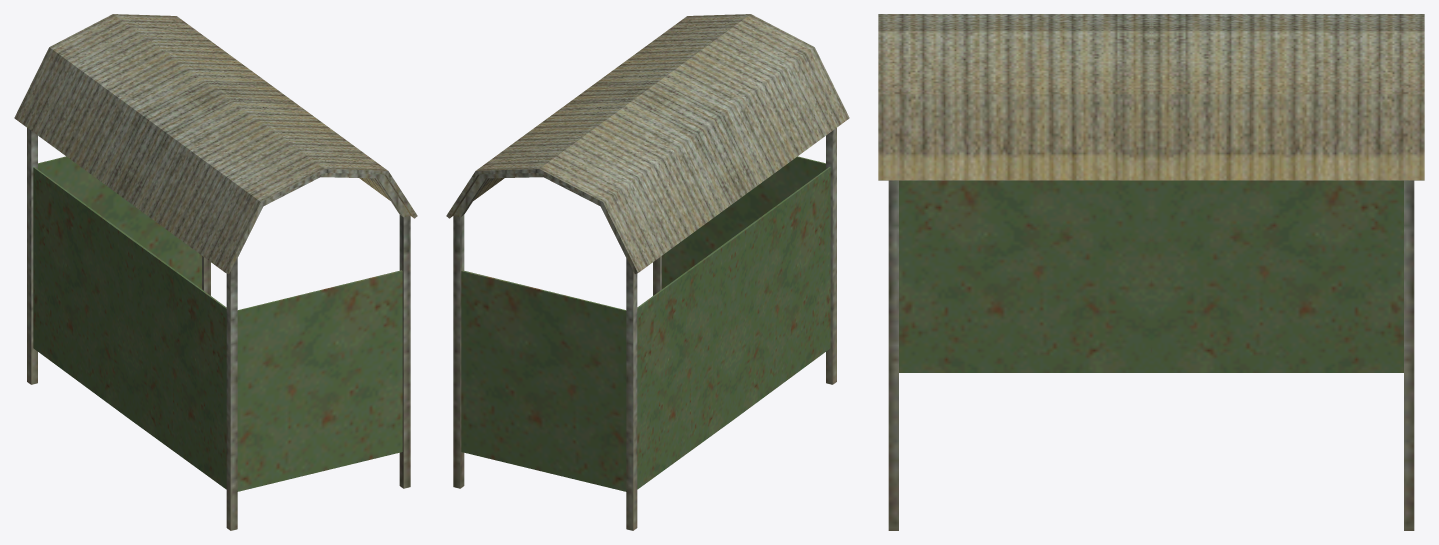
Rendered from Urban_BusstopRoundRoof_Model.fbx.
3 views of the same model, side by side, from view 1: azimuth 30°, elevation 25°; view 2: azimuth 150°, elevation 25°; view 3: azimuth 270°, elevation 25° (orthographic). The views are drawn at different scales.
Parts seen in each view (by area): view 1: Urban_BusstopRoundRoof_Mesh; view 2: Urban_BusstopRoundRoof_Mesh; view 3: Urban_BusstopRoundRoof_Mesh.
Boxes of the visible parts, <box> form: Urban_BusstopRoundRoof_Mesh: <box>14,14,417,530</box>; Urban_BusstopRoundRoof_Mesh: <box>446,14,849,530</box>; Urban_BusstopRoundRoof_Mesh: <box>878,14,1424,530</box>.
Size of the model in its own units: 2.22 by 3.79 by 4.24.
